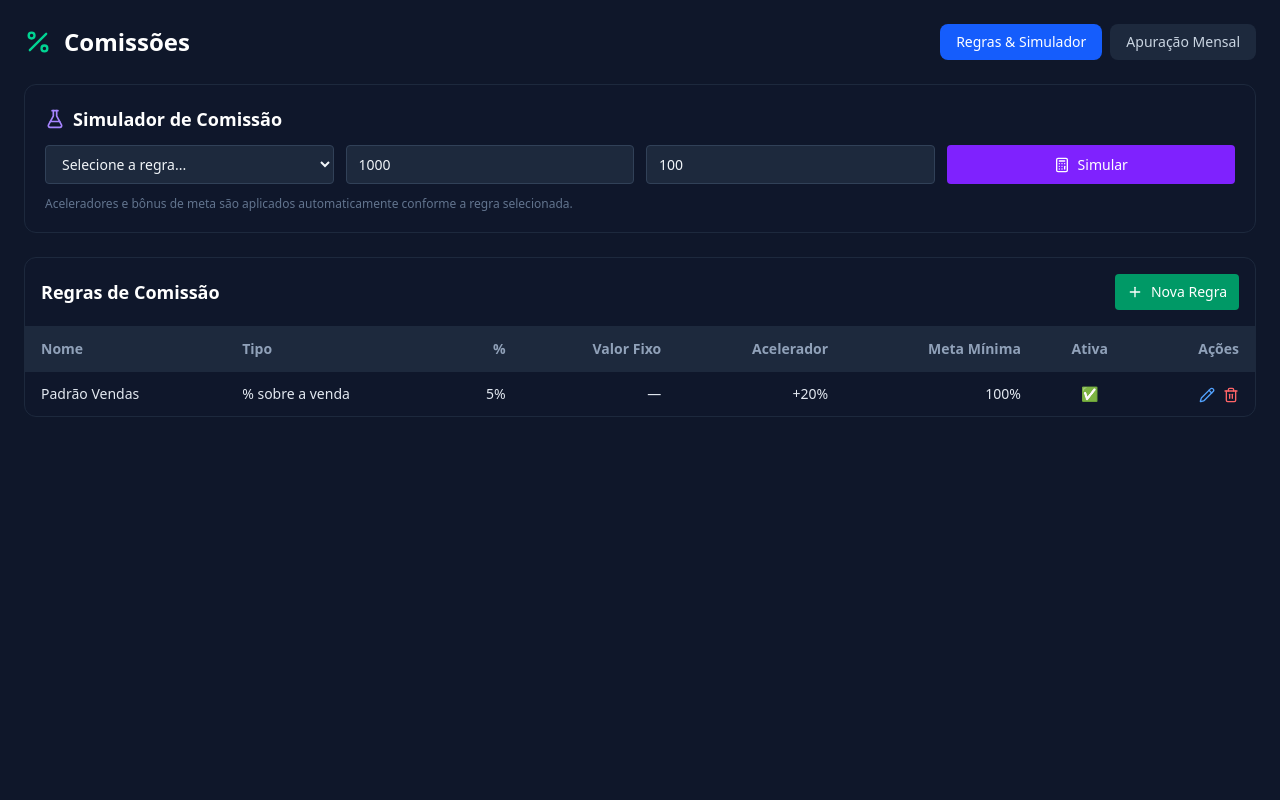
Test: Comissoes › valida regra sem nome antes de salvar
The image size is (1280, 800).
Click the button "Nova Regra" at (1177,292), box [1115,274,1239,310]
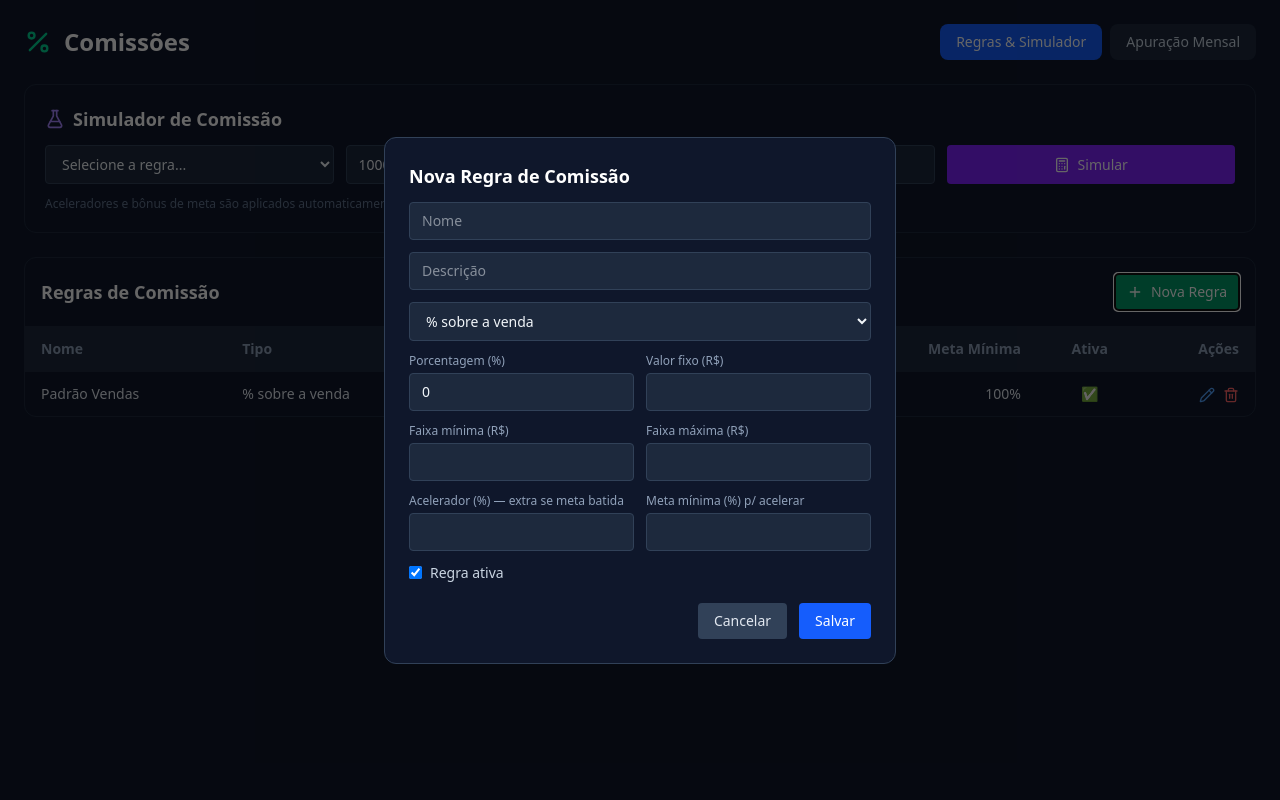
Click the button "Salvar" at (835,620), box [799,602,871,638]
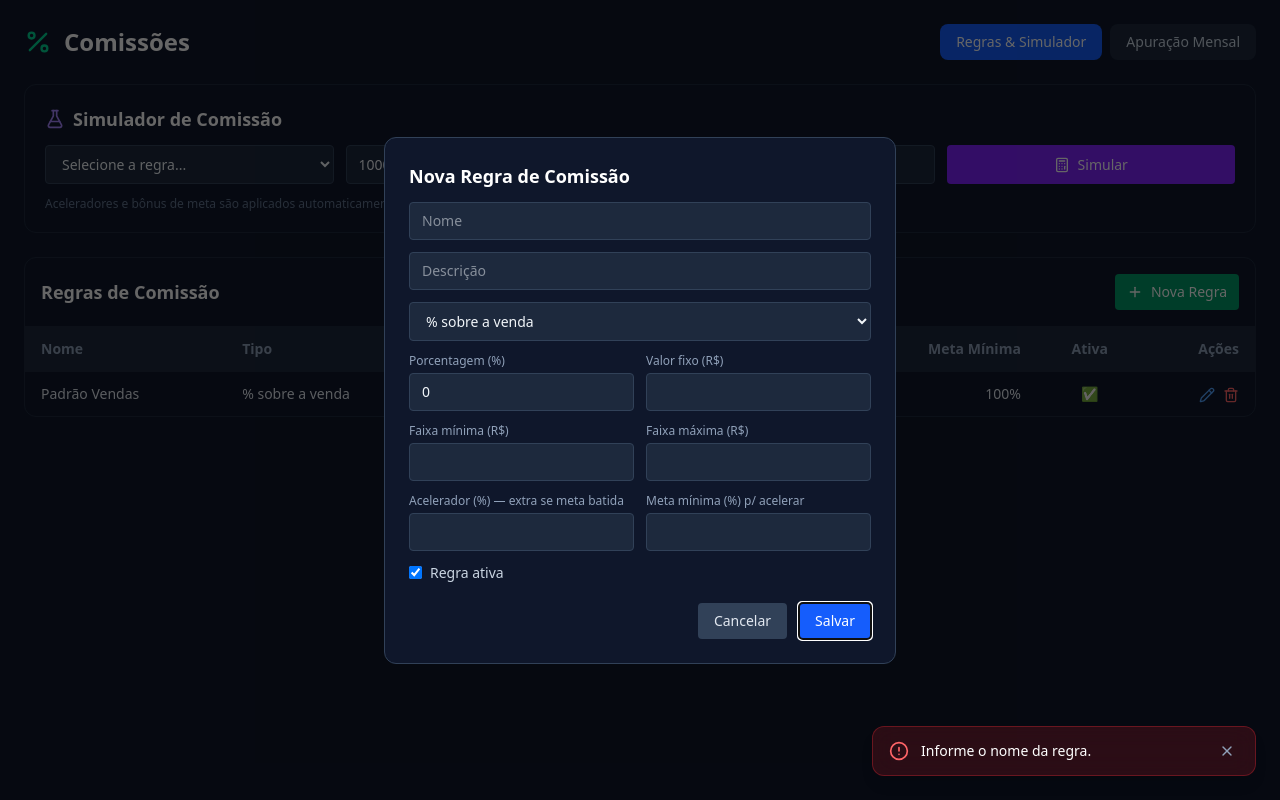
Expected: the text "Informe o nome da regra." is shown, [921,741,1091,760]
